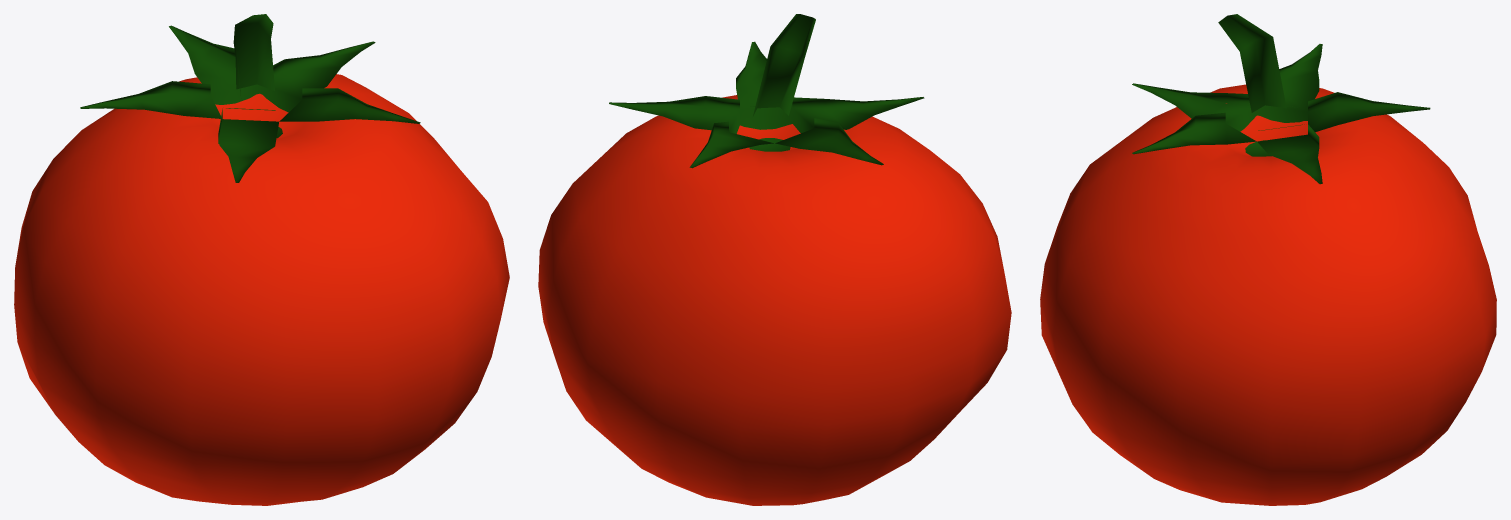
The model's file is tomate.fbx.
3 renders of one model, left to right at view 1: azimuth 30°, elevation 25°; view 2: azimuth 150°, elevation 25°; view 3: azimuth 270°, elevation 25°, orthographic. The views are drawn at different scales.
Parts seen in each view (by area): view 1: Sphere.002; view 2: Sphere.002; view 3: Sphere.002.
Part boxes in pixels (<box>): Sphere.002: <box>14,14,509,505</box>; Sphere.002: <box>538,14,1011,505</box>; Sphere.002: <box>1040,14,1496,505</box>.
Bounding box in the file's own units: 75.64 × 79.83 × 71.94.
